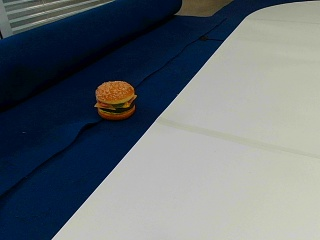burger: (94, 79, 136, 119)
